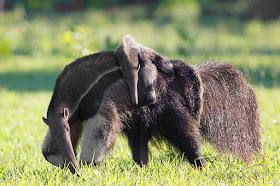TamanduaBandeira: (38, 50, 268, 178), (115, 34, 207, 119)
